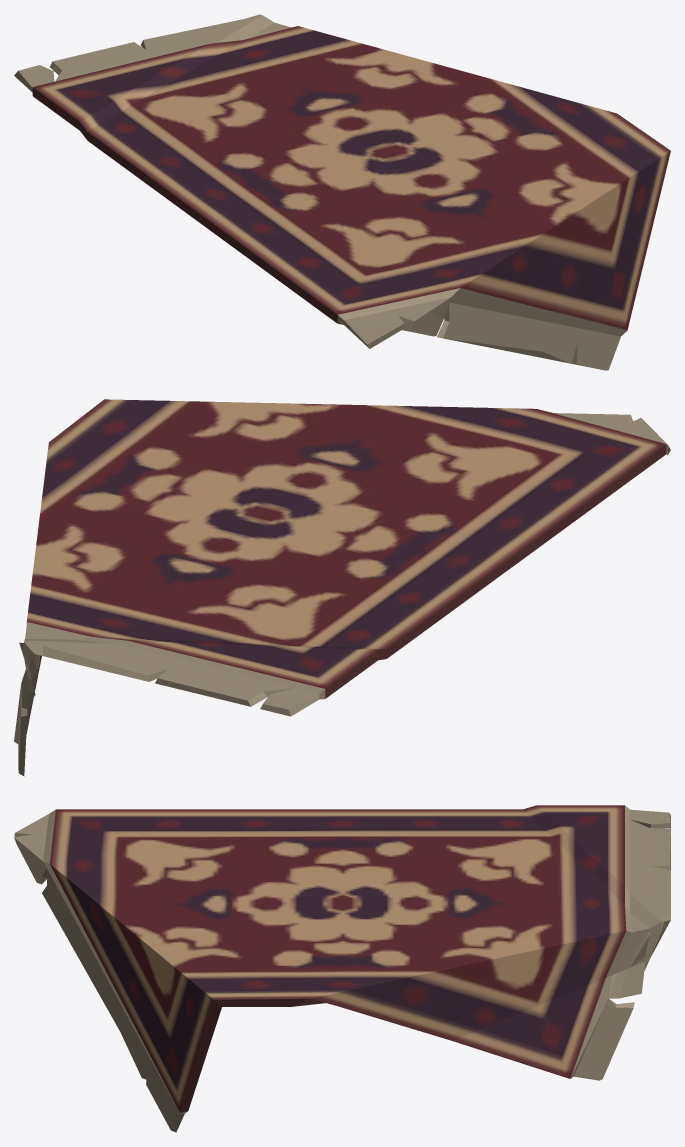
Rendered from kingdom_SM_Prop_Rug_02_Draped_01.gltf.
3 views of the same model, one above another, from view 1: azimuth 30°, elevation 25°; view 2: azimuth 150°, elevation 25°; view 3: azimuth 270°, elevation 25° (orthographic). The views are drawn at different scales.
Visible parts, largest first — view 1: SM_Prop_Rug_02_Draped_01; view 2: SM_Prop_Rug_02_Draped_01; view 3: SM_Prop_Rug_02_Draped_01.
Part boxes in pixels (bbox=[...]): SM_Prop_Rug_02_Draped_01: bbox=[14, 14, 670, 370]; SM_Prop_Rug_02_Draped_01: bbox=[14, 399, 670, 776]; SM_Prop_Rug_02_Draped_01: bbox=[14, 805, 670, 1132].
Size of the model in its own units: 1.02 by 0.439 by 1.49.
Materials: 1 (1 with a texture image).
